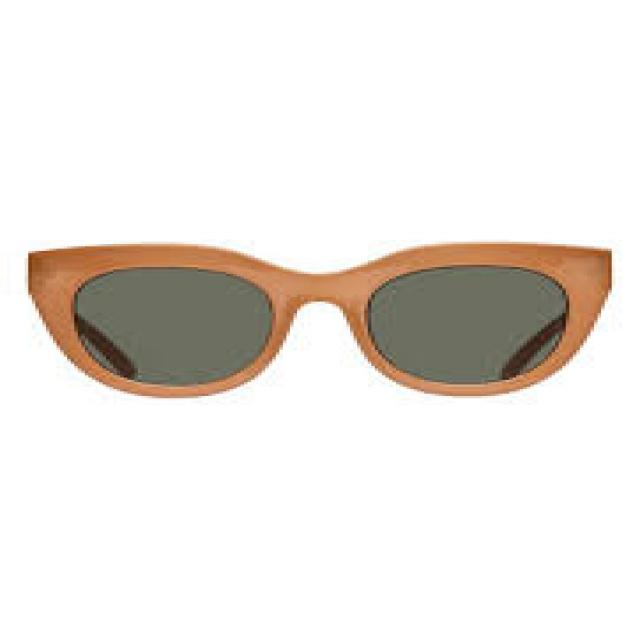suspicious-objects: (28, 249, 594, 398)
